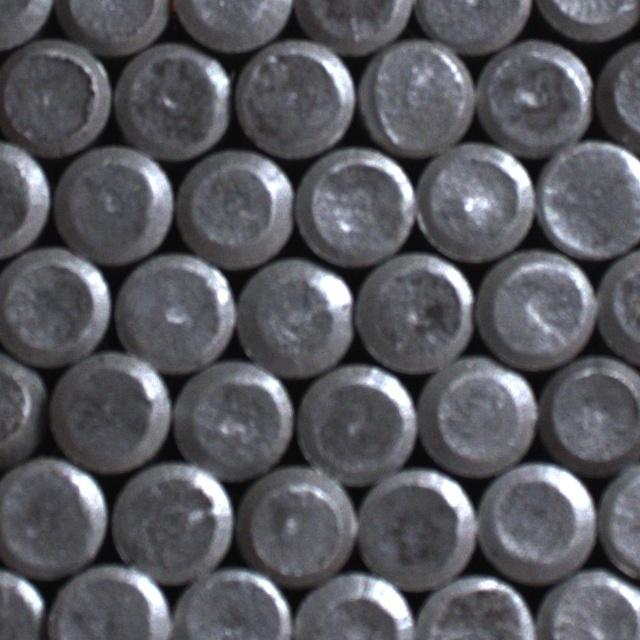tool: (109, 458, 234, 584), (47, 349, 171, 474), (350, 251, 474, 375), (231, 37, 355, 161), (412, 140, 537, 263), (355, 466, 478, 590), (232, 255, 354, 379), (52, 142, 174, 266), (171, 358, 295, 480), (236, 463, 358, 586), (173, 146, 295, 269), (473, 248, 597, 369), (296, 362, 418, 484), (114, 251, 235, 374), (476, 459, 597, 582), (295, 145, 417, 266), (113, 40, 233, 162), (420, 355, 540, 477), (358, 35, 477, 157), (473, 38, 593, 158), (0, 35, 112, 158), (0, 243, 110, 367), (0, 453, 108, 579), (534, 136, 640, 260), (537, 353, 640, 472), (46, 562, 170, 640), (170, 564, 292, 640), (292, 569, 414, 640), (416, 573, 536, 640), (539, 566, 640, 640), (170, 0, 298, 54), (412, 0, 534, 55), (294, 0, 416, 54), (58, 0, 174, 56), (0, 136, 51, 262)
